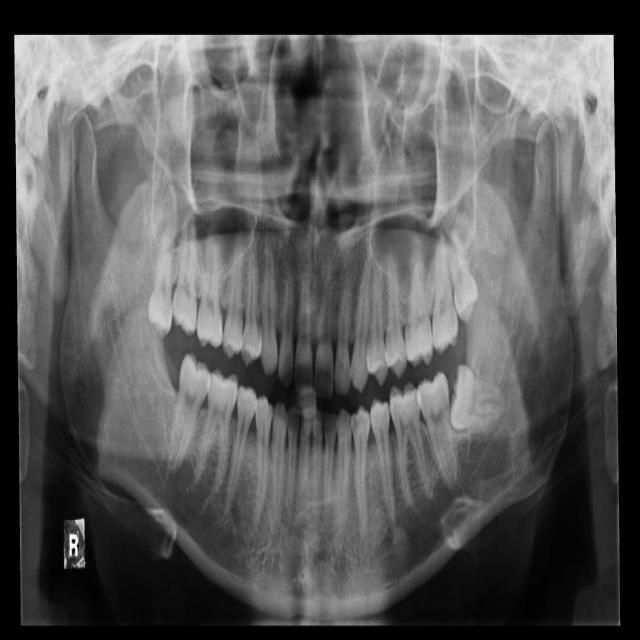impacted tooth: (450, 368, 507, 434), (448, 230, 480, 321), (148, 223, 173, 334)
